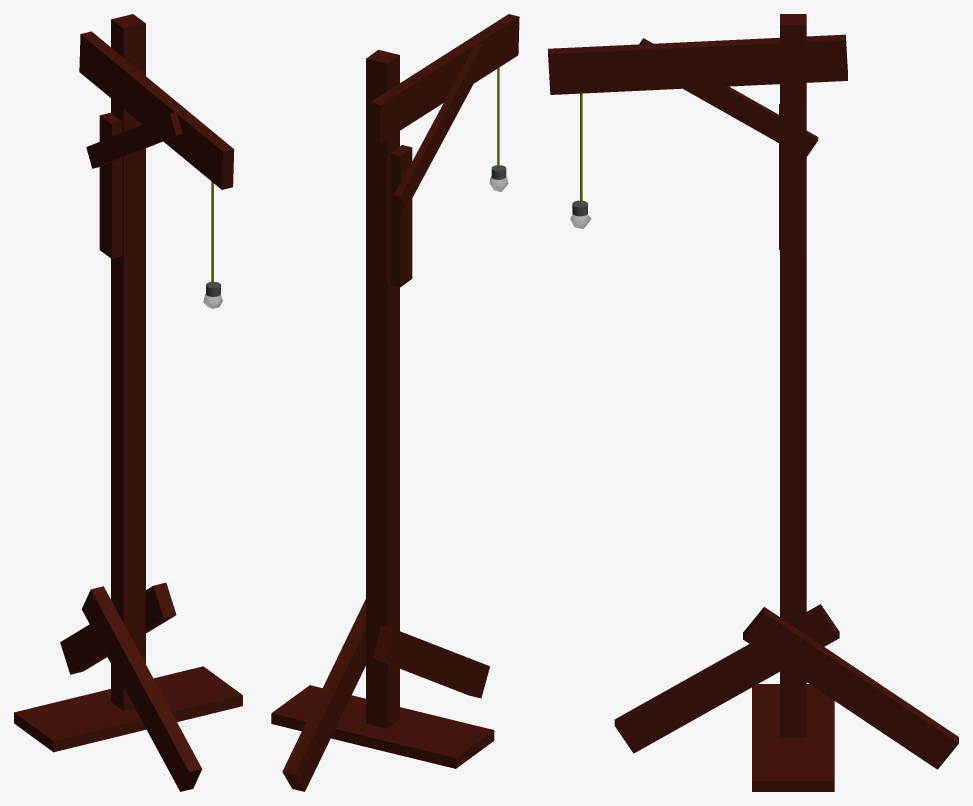
The model's file is Lamponpillar.FBX.
3 views of the same model, side by side, from view 1: azimuth 30°, elevation 25°; view 2: azimuth 150°, elevation 25°; view 3: azimuth 270°, elevation 25° (orthographic). The views are drawn at different scales.
Visible parts, largest first — view 1: Box001; view 2: Box001; view 3: Box001.
Part boxes in pixels (<box>): Box001: <box>14,14,242,791</box>; Box001: <box>271,14,519,791</box>; Box001: <box>548,14,958,791</box>.
Bounding box in the file's own units: 80.72 × 289 × 145.
